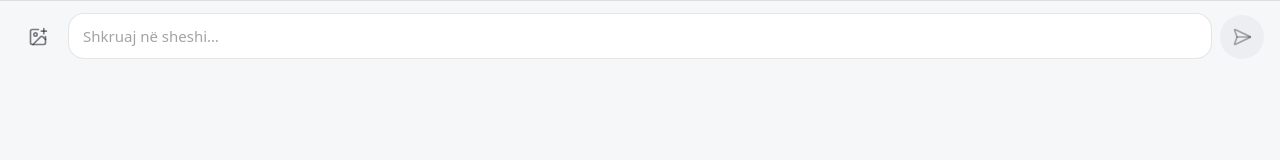
Test: Composer send › keeps the send button disabled until there is content
The width and height of the screenshot is (1280, 160).
Expected: the button named "Posto" is disabled, [1220, 15, 1264, 59]
Type "x" into the text box.
click(640, 36); type("x")  # box [69, 14, 1211, 58]
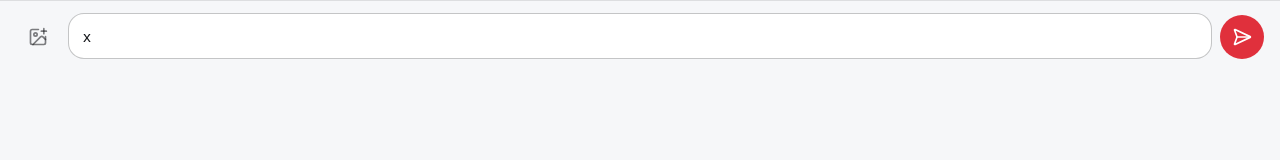
Now the button named "Posto" is enabled, box [1220, 15, 1264, 59]
